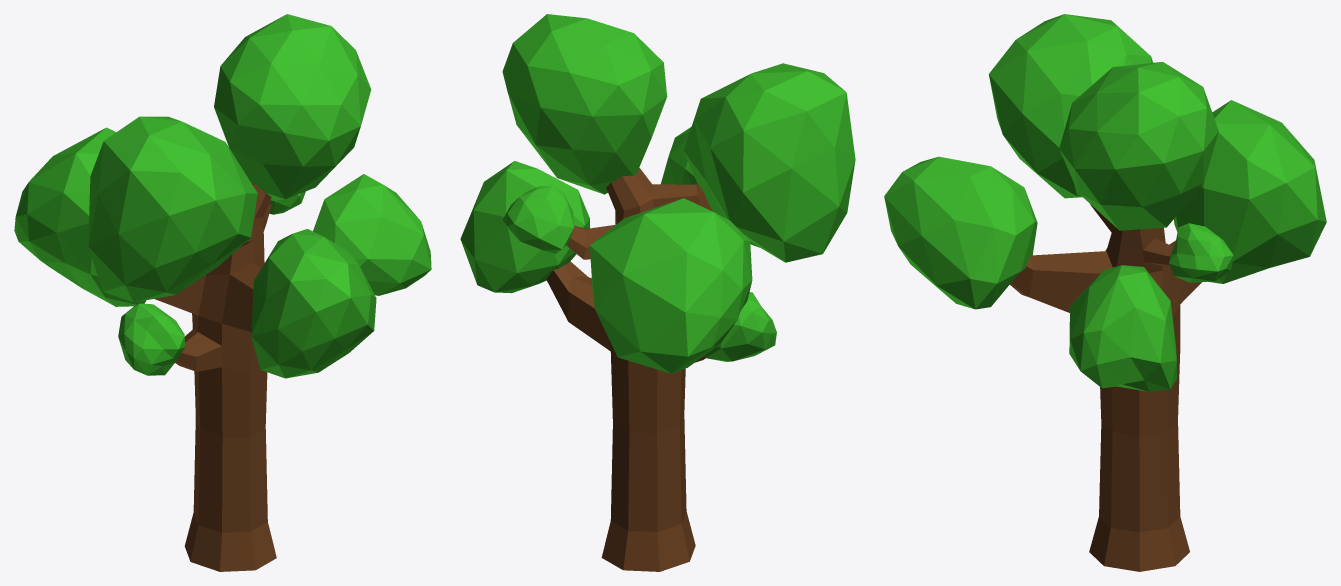
File: Tree2.fbx
3 views of the same model, side by side, from view 1: azimuth 30°, elevation 25°; view 2: azimuth 150°, elevation 25°; view 3: azimuth 270°, elevation 25° (orthographic). The views are drawn at different scales.
Parts seen in each view (by area): view 1: Tree2Leaves, Trees2Bark; view 2: Tree2Leaves, Trees2Bark; view 3: Tree2Leaves, Trees2Bark.
Part boxes in pixels (left/top/right/bottom): Tree2Leaves: left=14, top=14, right=431, bottom=378; Trees2Bark: left=154, top=184, right=276, bottom=571; Tree2Leaves: left=460, top=14, right=855, bottom=373; Trees2Bark: left=546, top=167, right=712, bottom=571; Tree2Leaves: left=884, top=14, right=1326, bottom=391; Trees2Bark: left=1010, top=204, right=1201, bottom=571.
Bounding box in the file's own units: 294 × 415 × 324.
